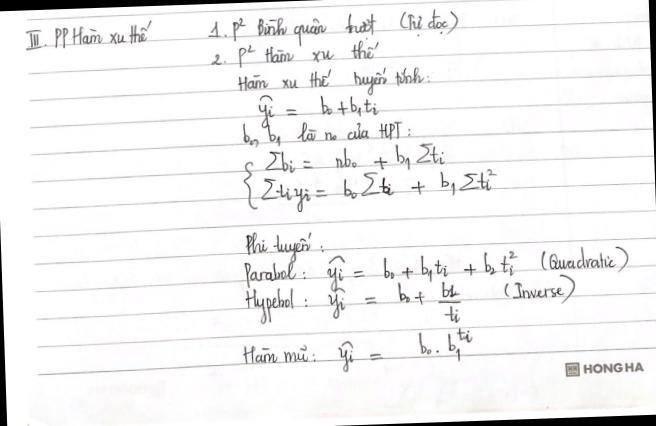text: (242, 242, 630, 295), (245, 272, 579, 330), (258, 164, 500, 216), (240, 326, 476, 378), (205, 7, 461, 44), (235, 64, 432, 101), (262, 138, 447, 176), (240, 117, 412, 150), (209, 38, 380, 71), (255, 90, 381, 128), (22, 18, 156, 52), (243, 229, 325, 264), (582, 360, 645, 376)
